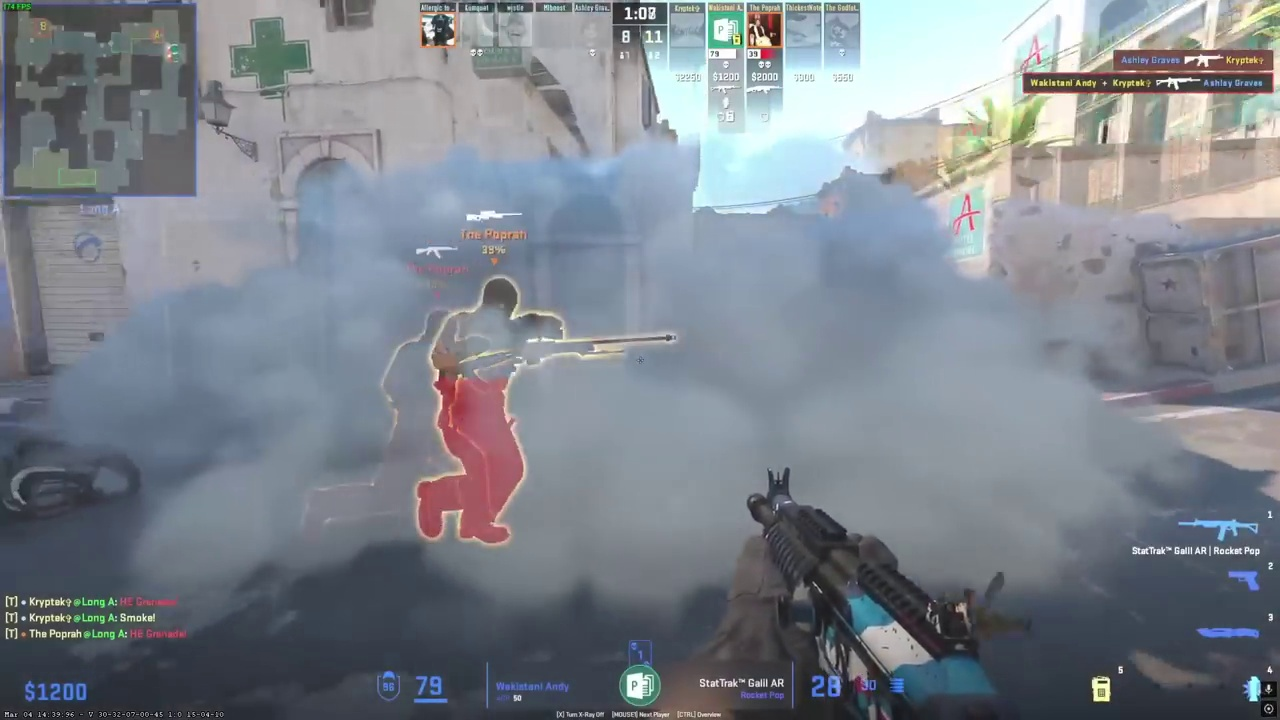Terrorist: (410, 274, 545, 549)
